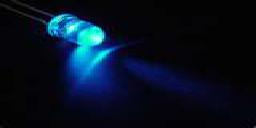LED: (2, 1, 111, 52)
